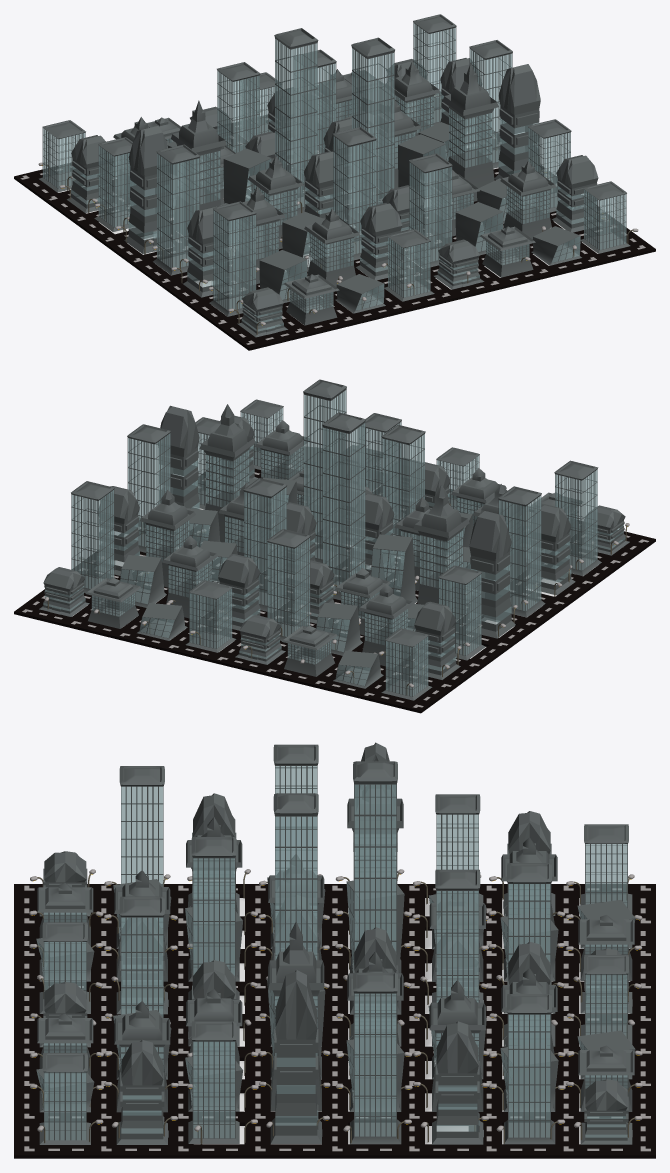
The model's file is City_fxb.fbx.
The picture shows the model from 3 angles, top to bottom: view 1: azimuth 30°, elevation 25°; view 2: azimuth 150°, elevation 25°; view 3: azimuth 270°, elevation 25°; orthographic projection. The views are drawn at different scales.
Parts seen in each view (by area): view 1: gratta4_5, gratta4_13, gratta4_14, gratta2_13, gratta4_12, GRATTA1_5, gratta4_9, gratta4_11, GRATTA1_13, gratta2_5, gratta4_3, gratta4_4 (+42 smaller); view 2: gratta4_5, gratta4_13, GRATTA1_5, gratta4_14, gratta4_4, gratta4_3, gratta2_5, gratta2_13, gratta4, gratta4_6, gratta4_12, gratta4_9 (+42 smaller); view 3: gratta4_5, gratta4_6, GRATTA1_13, gratta4_4, gratta4_13, gratta4_9, gratta4_10, gratta4, GRATTA1, gratta4_11, gratta4_12, GRATTA1_11 (+55 smaller).
Boxes of the visible parts, box(x1,y1,x2,y2) form: gratta4_5: box(272, 28, 318, 216); gratta4_13: box(348, 37, 394, 221); gratta4_14: box(153, 144, 200, 275); gratta2_13: box(442, 62, 498, 203); gratta4_12: box(209, 201, 256, 316); GRATTA1_5: box(124, 125, 173, 253); gratta4_9: box(330, 127, 376, 261); gratta4_11: box(406, 153, 452, 268); GRATTA1_13: box(494, 64, 540, 179); gratta2_5: box(171, 100, 226, 238); gratta4_3: box(217, 62, 260, 169); gratta4_4: box(410, 14, 456, 126); gratta4_5: box(322, 412, 365, 602); gratta4_13: box(303, 379, 347, 569); GRATTA1_5: box(466, 510, 515, 638); gratta4_14: box(498, 486, 545, 617); gratta4_4: box(71, 481, 114, 592); gratta4_3: box(267, 529, 310, 640); gratta2_5: box(413, 484, 469, 619); gratta2_13: box(199, 404, 255, 542); gratta4: box(243, 478, 289, 612); gratta4_6: box(127, 424, 171, 552); gratta4_12: box(552, 460, 601, 575); gratta4_9: box(381, 425, 425, 556); gratta4_5: box(350, 761, 401, 1014); gratta4_6: box(350, 972, 401, 1144); GRATTA1_13: box(270, 970, 322, 1143); gratta4_4: box(504, 994, 555, 1144); gratta4_13: box(270, 793, 318, 1046); gratta4_9: box(188, 837, 239, 999); gratta4_10: box(188, 1021, 239, 1143); gratta4: box(432, 869, 480, 1046); GRATTA1: box(432, 1021, 483, 1144); gratta4_11: box(116, 896, 164, 1046); gratta4_12: box(116, 766, 164, 916); GRATTA1_11: box(116, 1040, 168, 1144).
Size of the model in its own units: 2500 by 1041 by 2500.
